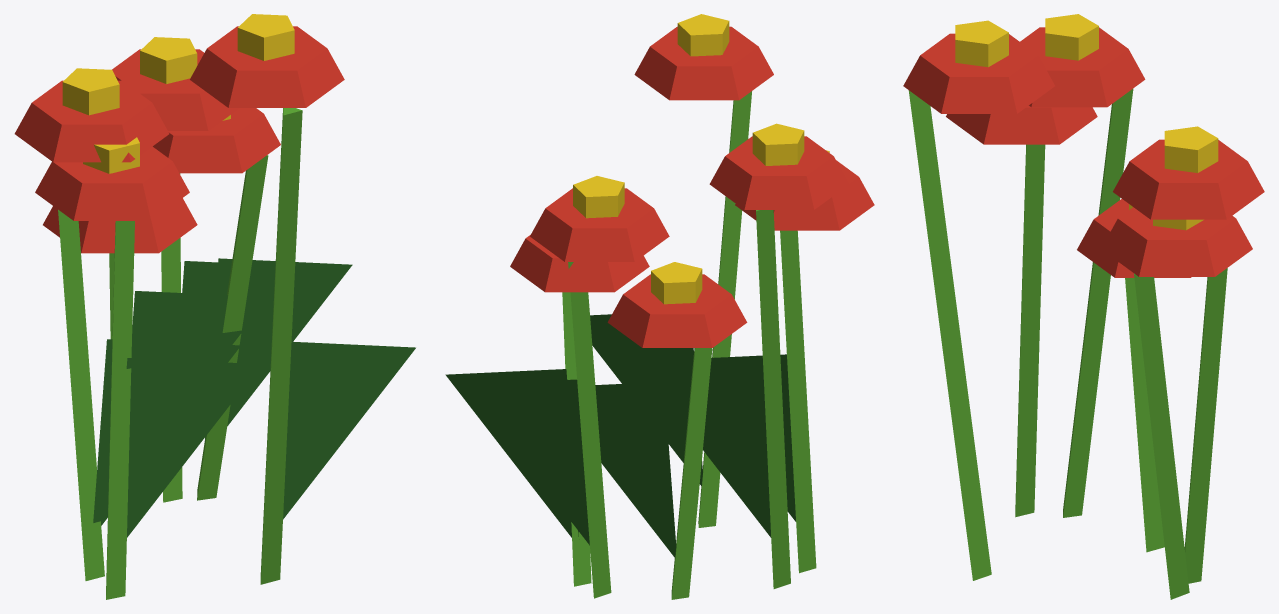
The model's file is flower_patch_4.glb.
3 renders of one model, left to right at view 1: azimuth 30°, elevation 25°; view 2: azimuth 150°, elevation 25°; view 3: azimuth 270°, elevation 25°, orthographic. The views are drawn at different scales.
Parts seen in each view (by area): view 1: flower_patch_4; view 2: flower_patch_4; view 3: flower_patch_4.
Part boxes in pixels (x1,y1,x2,y2): flower_patch_4: [14, 14, 415, 599]; flower_patch_4: [445, 14, 874, 599]; flower_patch_4: [903, 14, 1264, 599].
Bounding box in the file's own units: 0.5061 × 0.7116 × 0.4278.
